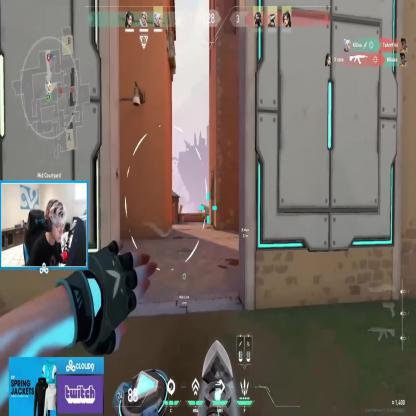enemy: (202, 207, 206, 224)
enemy_head: (202, 207, 205, 210)
